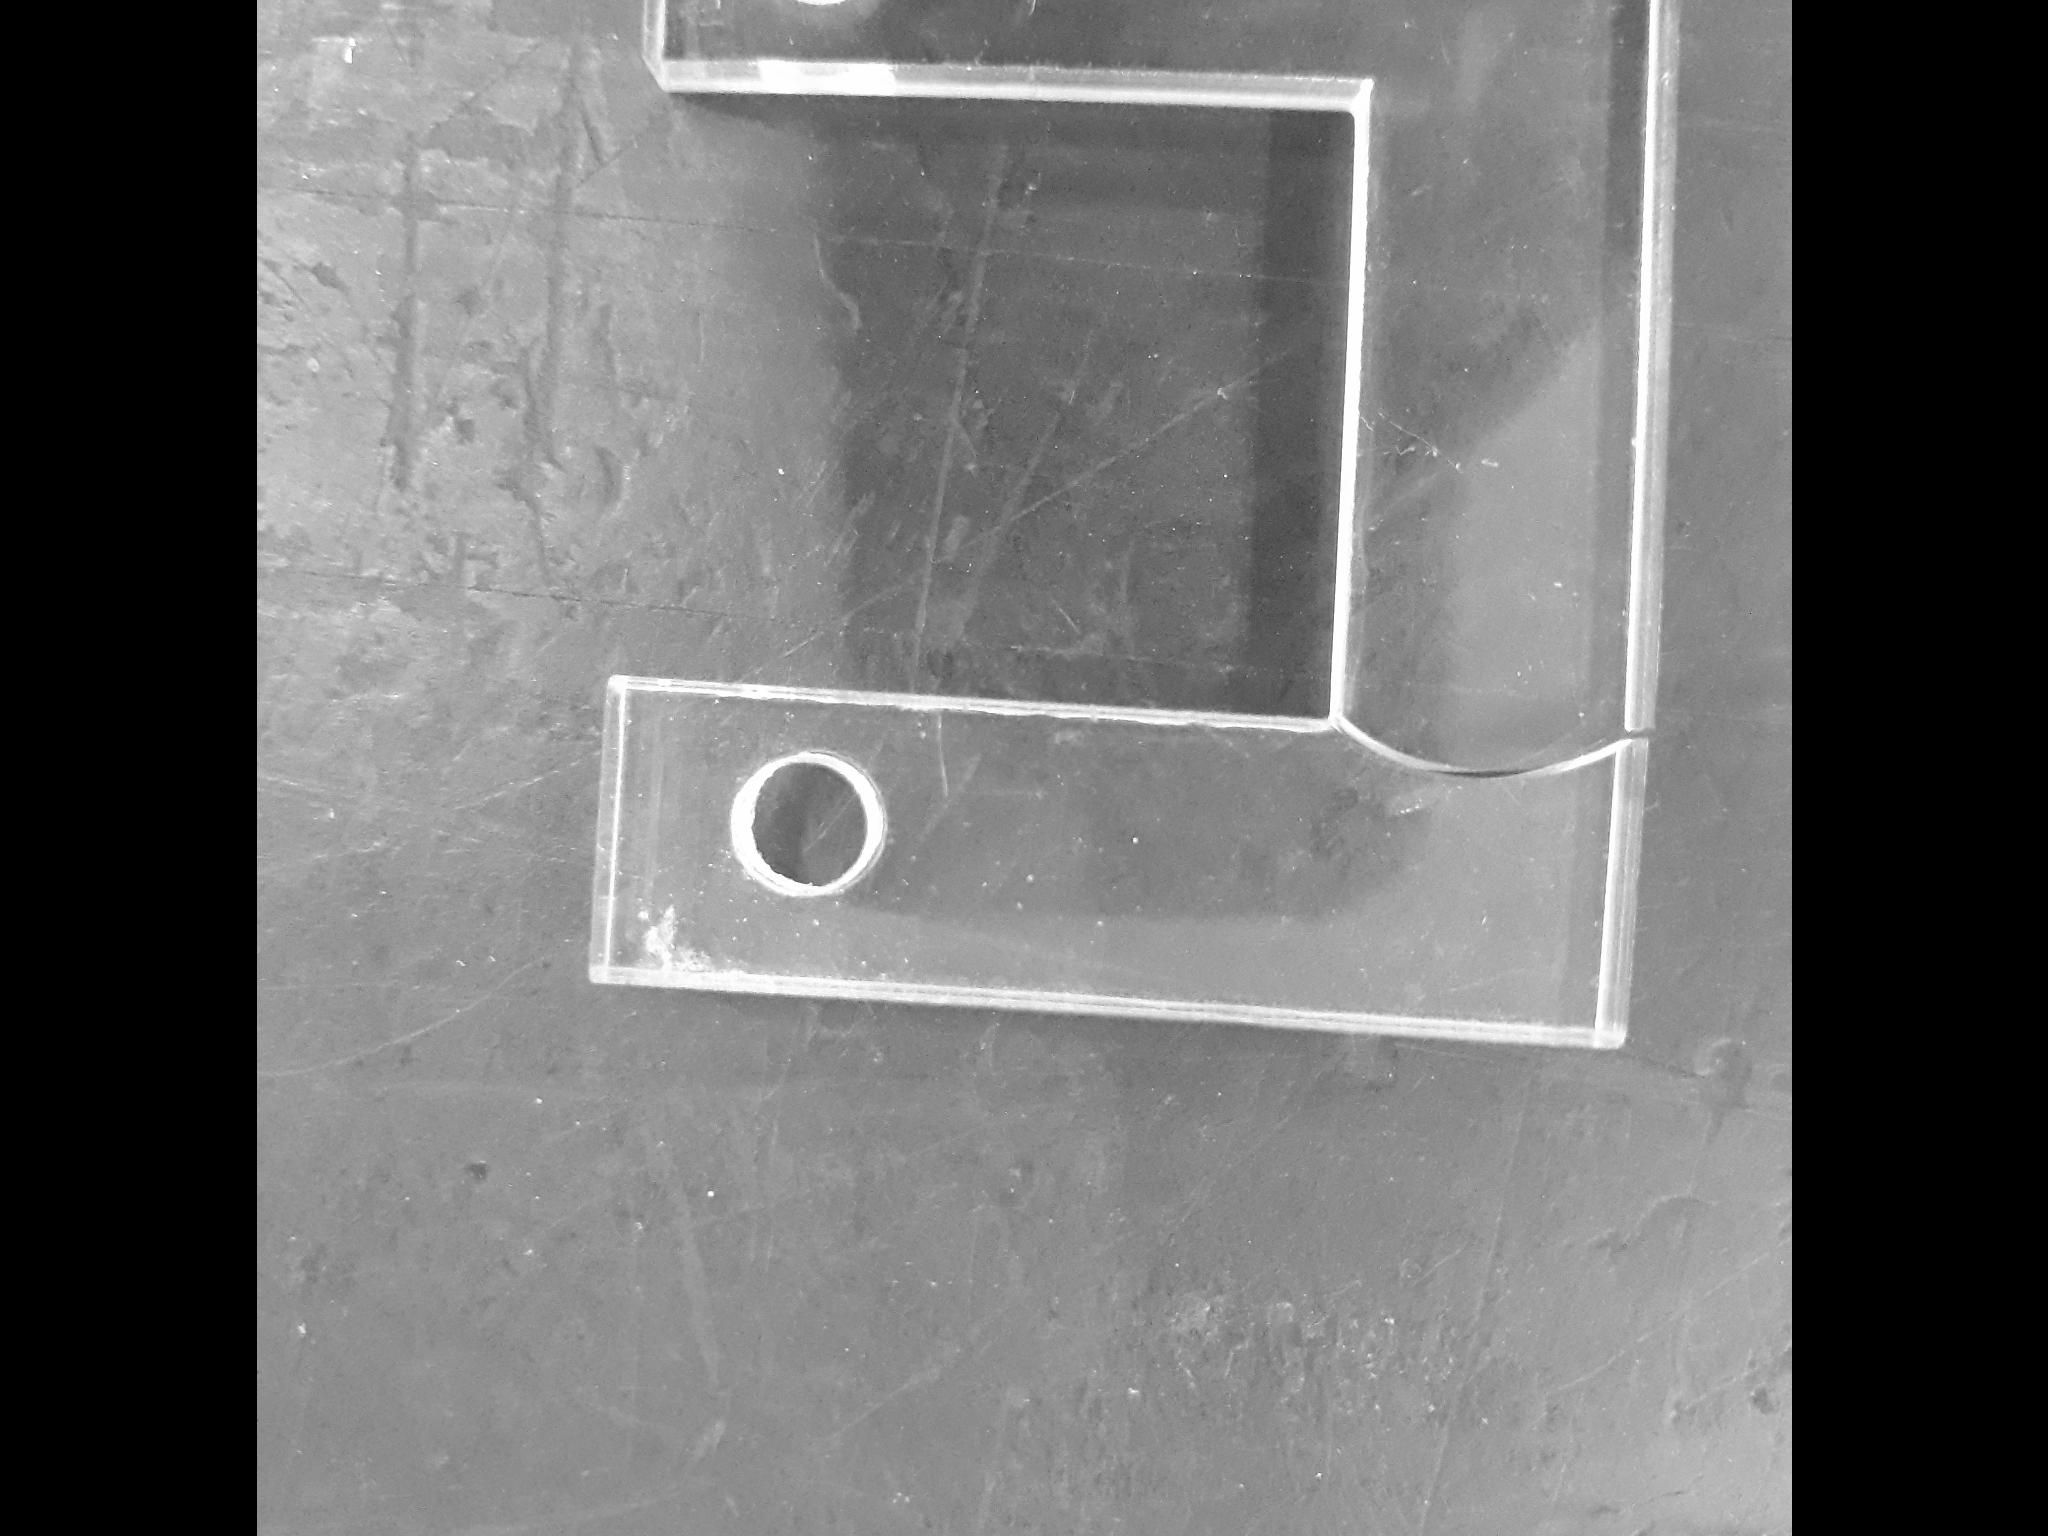Shape_90: (256, 371, 1040, 1446), (256, 689, 716, 1376)
